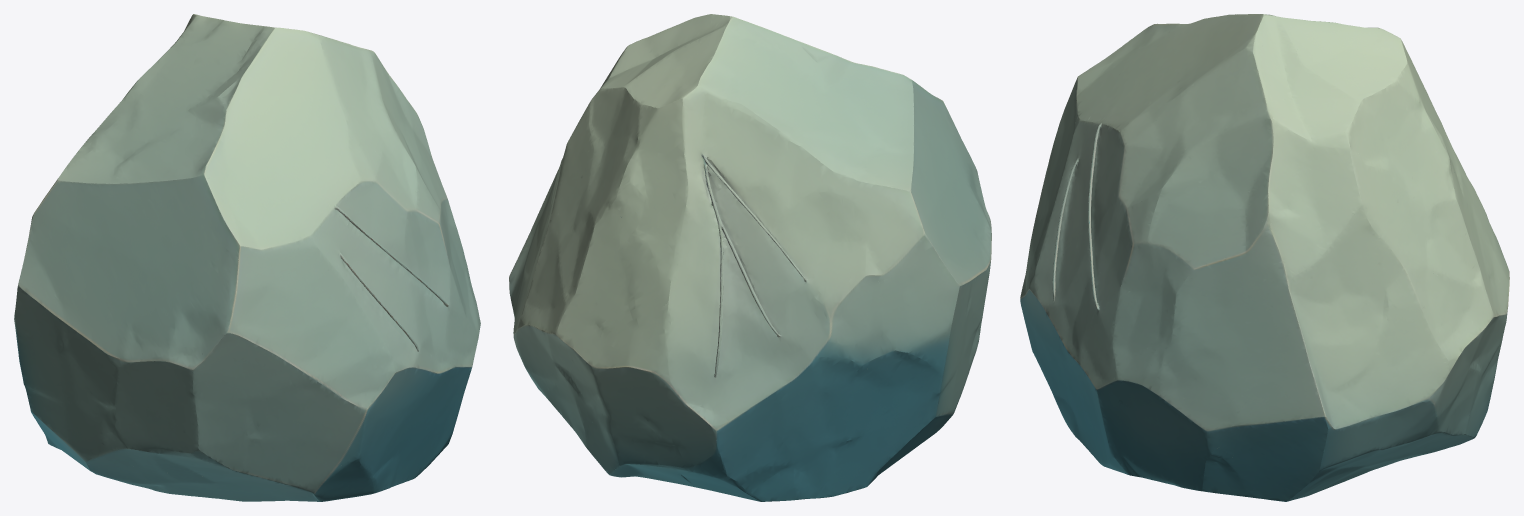
File: base_basic_pbr.fbx
3 views of the same model, side by side, from view 1: azimuth 30°, elevation 25°; view 2: azimuth 150°, elevation 25°; view 3: azimuth 270°, elevation 25° (orthographic). The views are drawn at different scales.
Visible parts, largest first — view 1: geometry_0; view 2: geometry_0; view 3: geometry_0.
Part boxes in pixels (bbox=[...]): geometry_0: bbox=[14, 14, 480, 501]; geometry_0: bbox=[509, 14, 991, 501]; geometry_0: bbox=[1020, 14, 1509, 501].
Bounding box in the file's own units: 190 × 168 × 176.
1 material, 1 textured.
